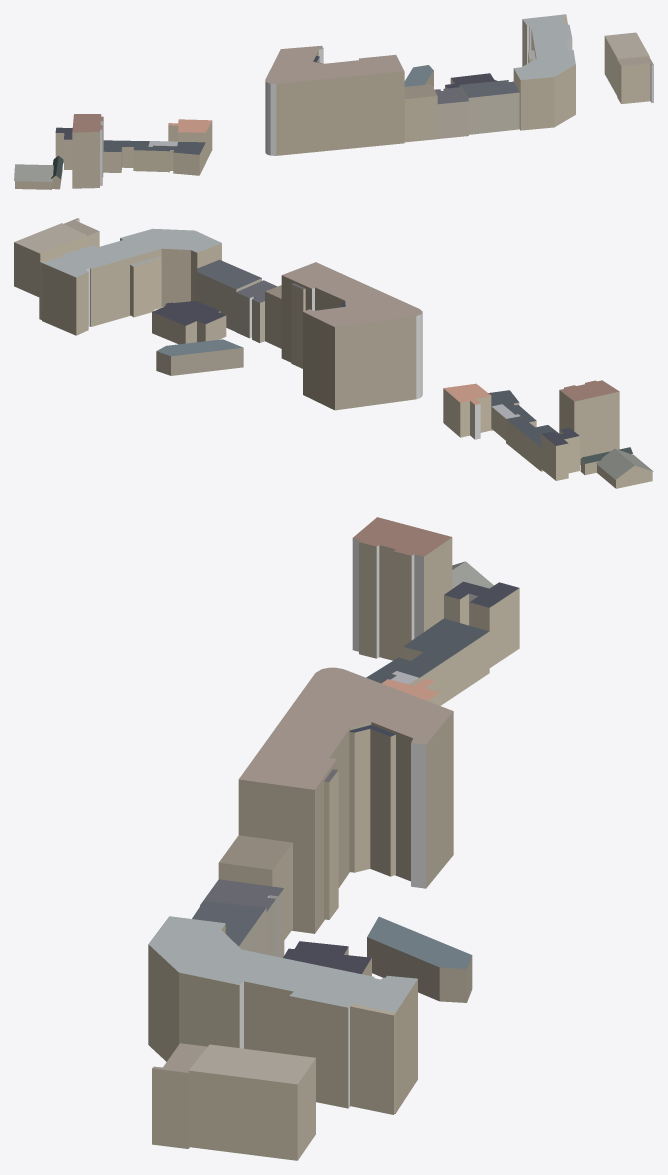
3 views of the same model, one above another, from view 1: azimuth 30°, elevation 25°; view 2: azimuth 150°, elevation 25°; view 3: azimuth 270°, elevation 25° (orthographic). The views are drawn at different scales.
Visible parts, largest first — view 1: tuile; view 2: tuile; view 3: tuile.
Boxes of the visible parts, box(x1,y1,x2,y2) form: tuile: box(14, 14, 653, 189); tuile: box(14, 218, 653, 488); tuile: box(148, 517, 519, 1160).
Size of the model in its own units: 253 by 29.84 by 69.1.
